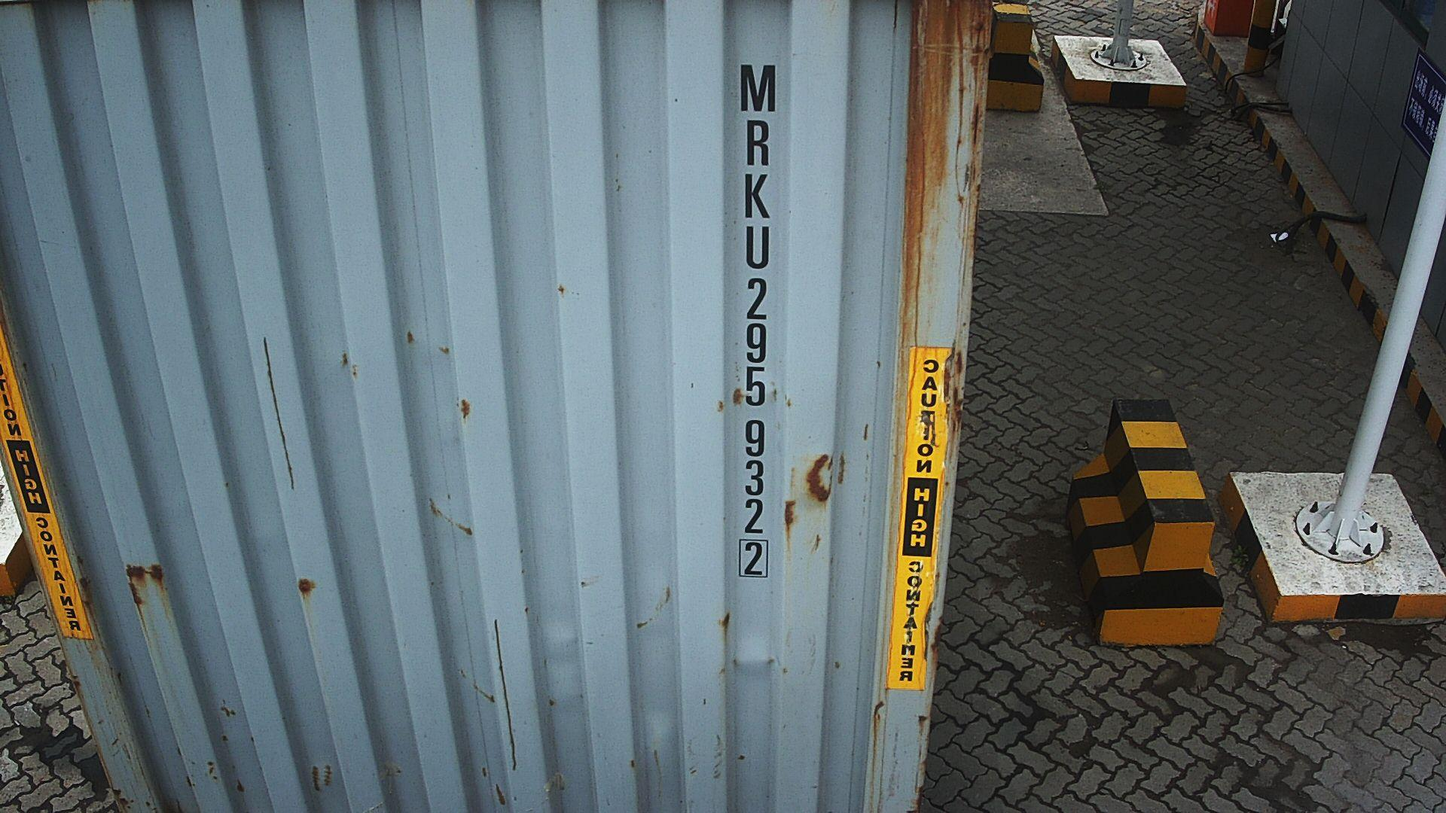container-numbers: (724, 52, 786, 587)
